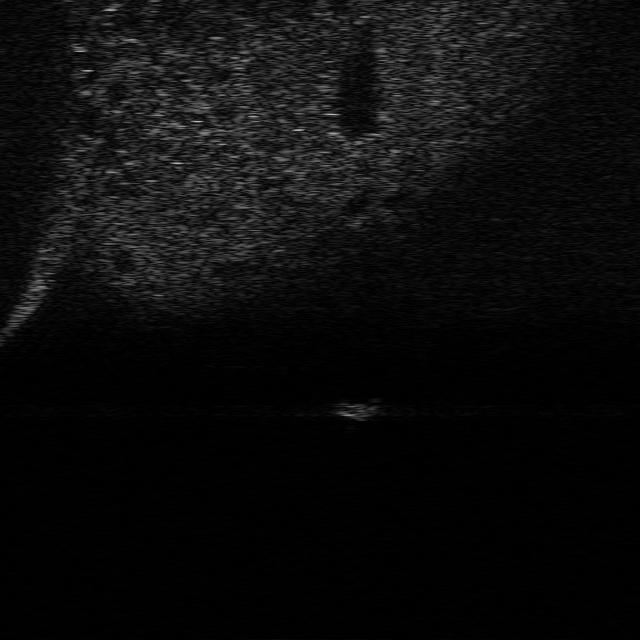cube: (328, 393, 382, 422)
